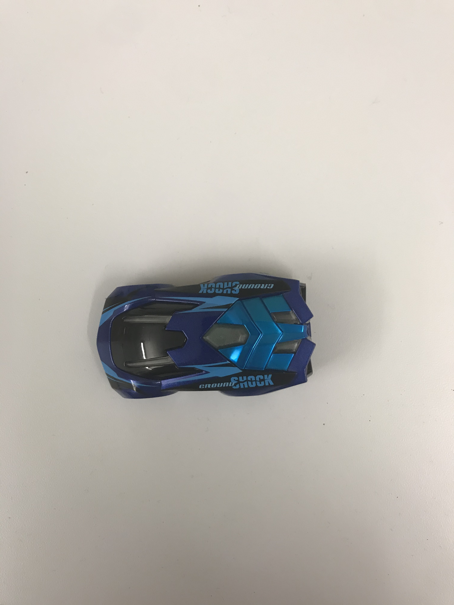Shock: (95, 272, 317, 399)
